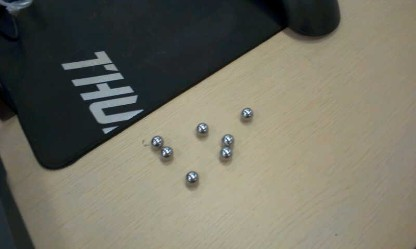ironball: (185, 170, 198, 184), (240, 107, 253, 121), (160, 146, 173, 160), (219, 146, 232, 160), (150, 135, 163, 148), (221, 133, 234, 146), (196, 122, 208, 135)
